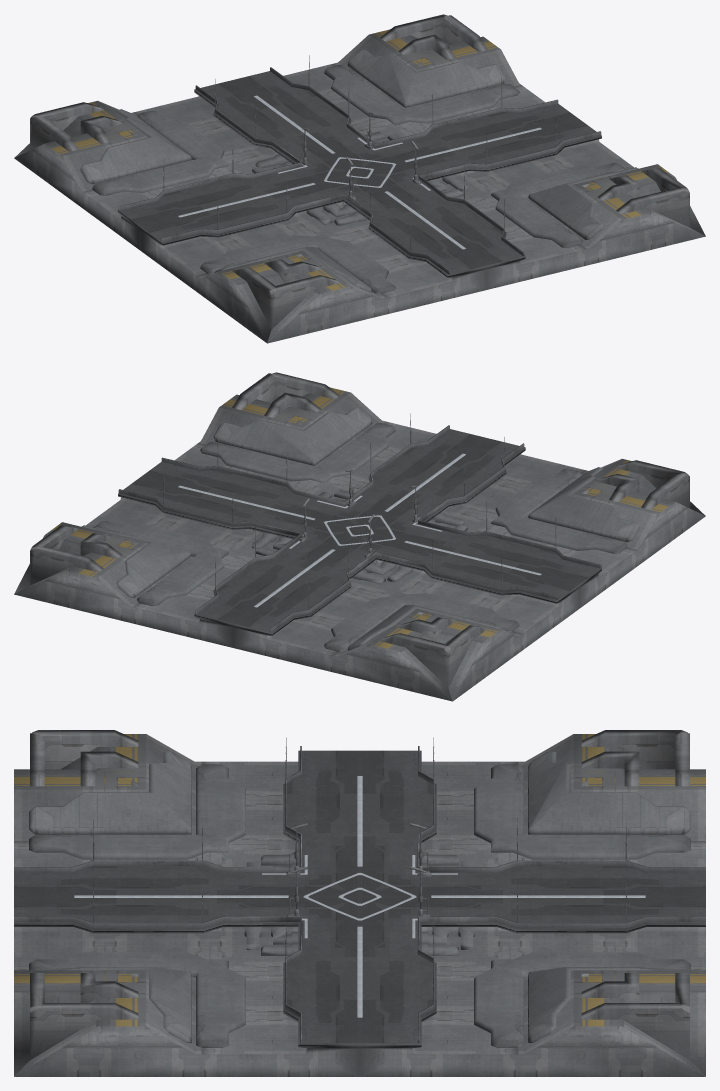
File: CityBlock013.fbx
The picture shows the model from 3 angles, top to bottom: view 1: azimuth 30°, elevation 25°; view 2: azimuth 150°, elevation 25°; view 3: azimuth 270°, elevation 25°; orthographic projection. The views are drawn at different scales.
Parts seen in each view (by area): view 1: SMCGBlock53_7653.Shape; view 2: SMCGBlock53_7653.Shape; view 3: SMCGBlock53_7653.Shape.
Boxes of the visible parts, x1=… form: SMCGBlock53_7653.Shape: x1=14, y1=14, x2=705, y2=343; SMCGBlock53_7653.Shape: x1=14, y1=372, x2=705, y2=701; SMCGBlock53_7653.Shape: x1=14, y1=730, x2=705, y2=1076.
Bounding box in the file's own units: 728 × 98.98 × 728.
